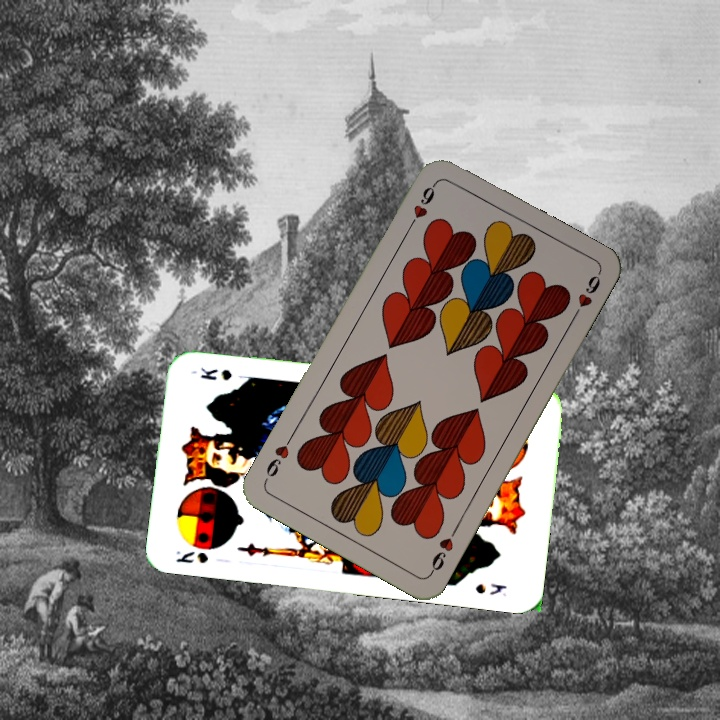H9: (404, 178, 440, 232), (426, 523, 461, 577)
SK: (172, 546, 211, 566)
